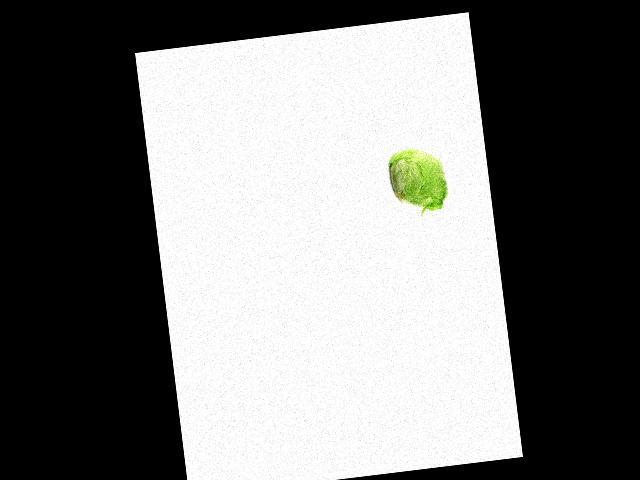lettuce: (384, 142, 452, 213)
